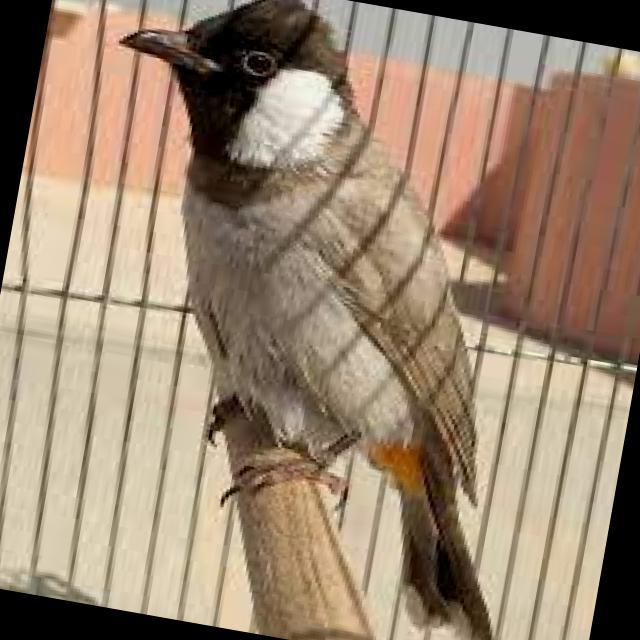bird: (24, 0, 596, 640)
